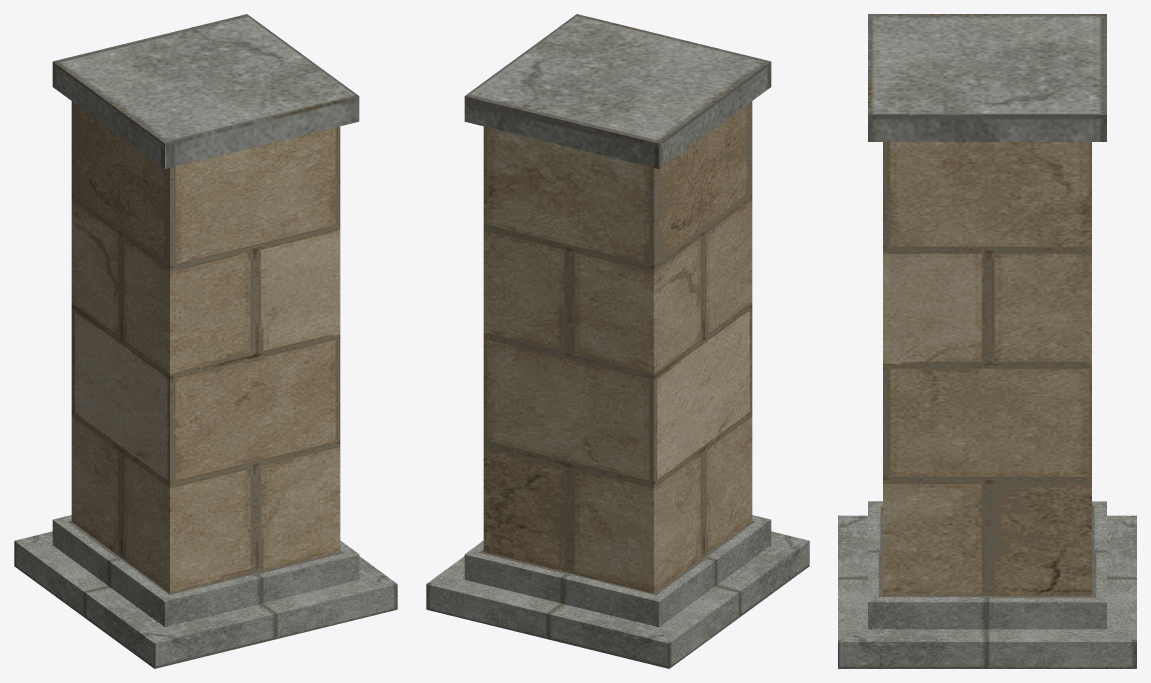
File: pillar.fbx
The picture shows the model from 3 angles, left to right: view 1: azimuth 30°, elevation 25°; view 2: azimuth 150°, elevation 25°; view 3: azimuth 270°, elevation 25°; orthographic projection. The views are drawn at different scales.
Visible parts, largest first — view 1: pillar; view 2: pillar; view 3: pillar.
Part boxes in pixels (x1,y1,x2,y2): pillar: [14, 14, 397, 668]; pillar: [426, 14, 809, 668]; pillar: [838, 14, 1136, 668].
Bounding box in the file's own units: 100 × 200 × 100.
